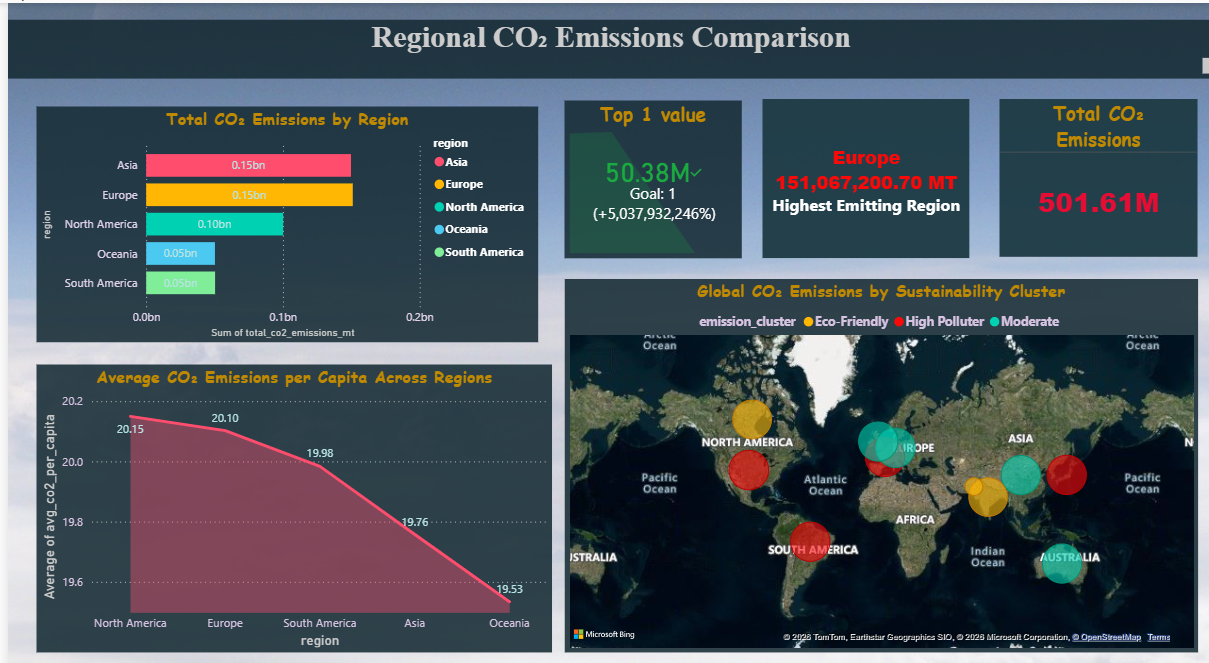

Layout of this report page (visuals, bound fields, positions):
{"tool":"powerbi","page":{"name":"Regional Comparision","canvas":[1280,720],"ordinal":1},"visuals":[{"type":"barChart","title":"Total CO₂ Emissions by Region","fields":{"Category":["gold_regional_emissions_summary.region"],"Y":["Sum(gold_regional_emissions_summary.total_co2_emissions_mt)"],"Series":["gold_regional_emissions_summary.region"]},"box":[30,110,532,250],"z":0},{"type":"areaChart","title":"Average CO₂ Emissions per Capita Across Regions","fields":{"Category":["gold_regional_emissions_summary.region"],"Y":["Avg(gold_regional_emissions_summary.avg_co2_per_capita)"]},"box":[30,383.3,546.7,305],"z":1000},{"type":"card","title":" Total CO₂ Emissions","fields":{"Values":["Sum(gold_regional_emissions_summary.total_co2_emissions_mt)"]},"box":[1022,96,210,166],"z":2000},{"type":"kpi","title":"Top 1 value","fields":{"TrendLine":["gold_high_emission_regions.region"],"Indicator":["Sum(gold_high_emission_regions.total_co2_emissions_mt)"],"Goal":["CountNonNull(gold_high_emission_regions.region)"]},"box":[576,98,188,168],"z":3000},{"type":"textbox","title":"Regional CO₂ Emissions Comparison","box":[0,17,1279.4,62.4],"z":4000},{"type":"map","title":"Global CO₂ Emissions by Sustainability Cluster","fields":{"Category":["gold_country_cluster_summary.country"],"Series":["gold_country_cluster_summary.emission_cluster"],"Size":["Sum(gold_country_cluster_summary.total_co2_emissions_mt)"]},"box":[590,292,672,396],"z":5000},{"type":"card","fields":{"Values":["gold_country_cluster_summary.Highest Emitting Region"]},"box":[784,98,220,170],"z":6000}]}

Visuals, with their boxes in screenshot pixels (x1, y1, x2, y2), scaled from the page's 1280x720 canvas onto the 1209x663 screenshot:
"Total CO₂ Emissions by Region" barChart: bbox(28, 101, 531, 332)
"Average CO₂ Emissions per Capita Across Regions" areaChart: bbox(28, 353, 545, 634)
" Total CO₂ Emissions" card: bbox(965, 88, 1164, 241)
"Top 1 value" kpi: bbox(544, 90, 722, 245)
"Regional CO₂ Emissions Comparison" textbox: bbox(0, 16, 1208, 73)
"Global CO₂ Emissions by Sustainability Cluster" map: bbox(557, 269, 1192, 634)
card - gold_country_cluster_summary.Highest Emitting Region: bbox(741, 90, 948, 247)
